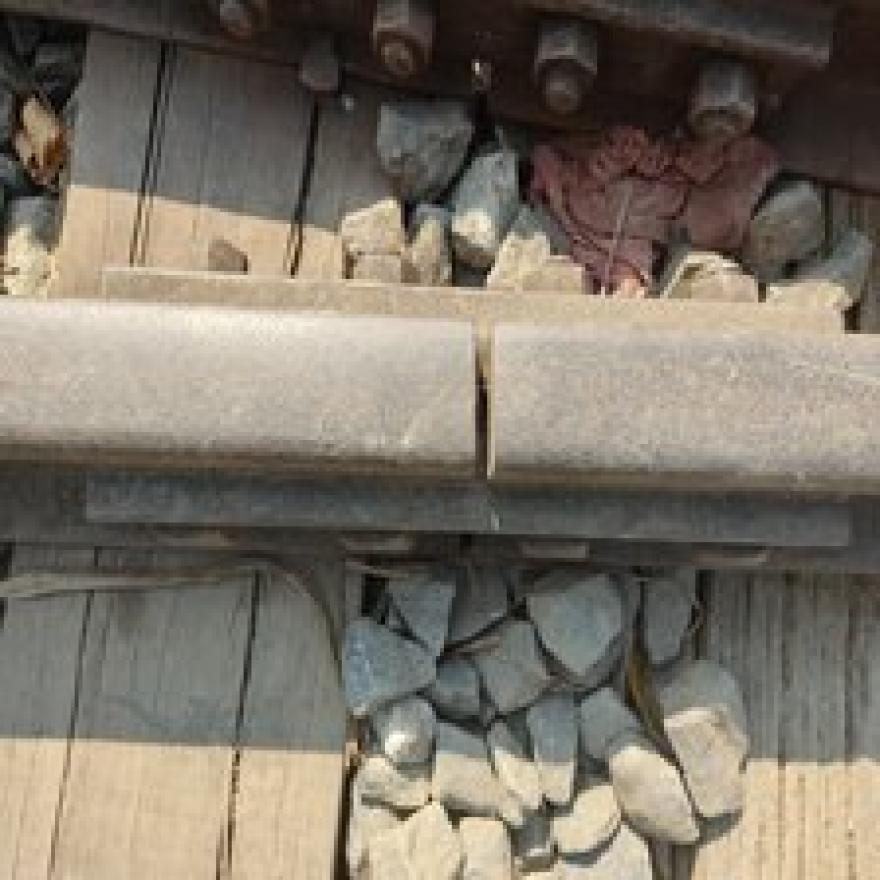railway-gap: (373, 296, 588, 496)
